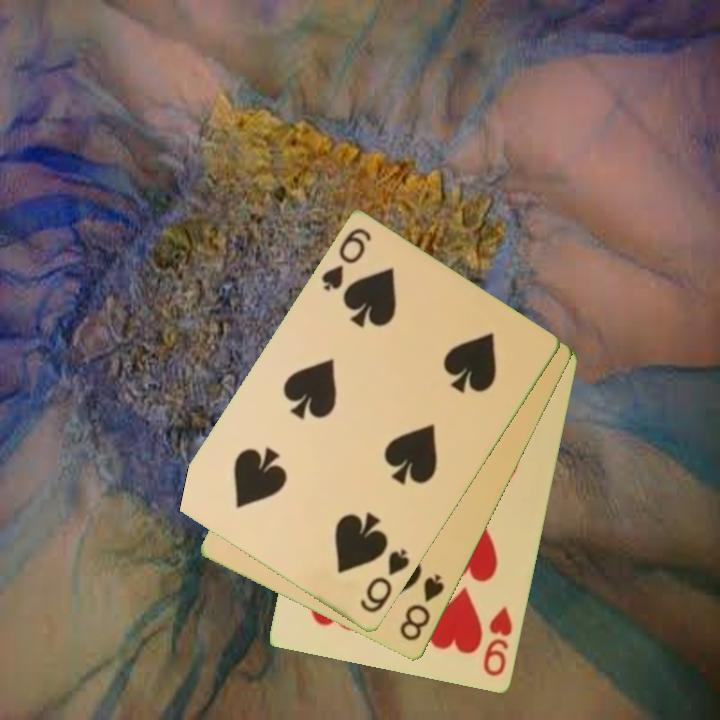6s: (356, 546, 413, 617), (318, 225, 375, 295)
8s: (396, 571, 448, 645)
9h: (480, 603, 516, 680)
